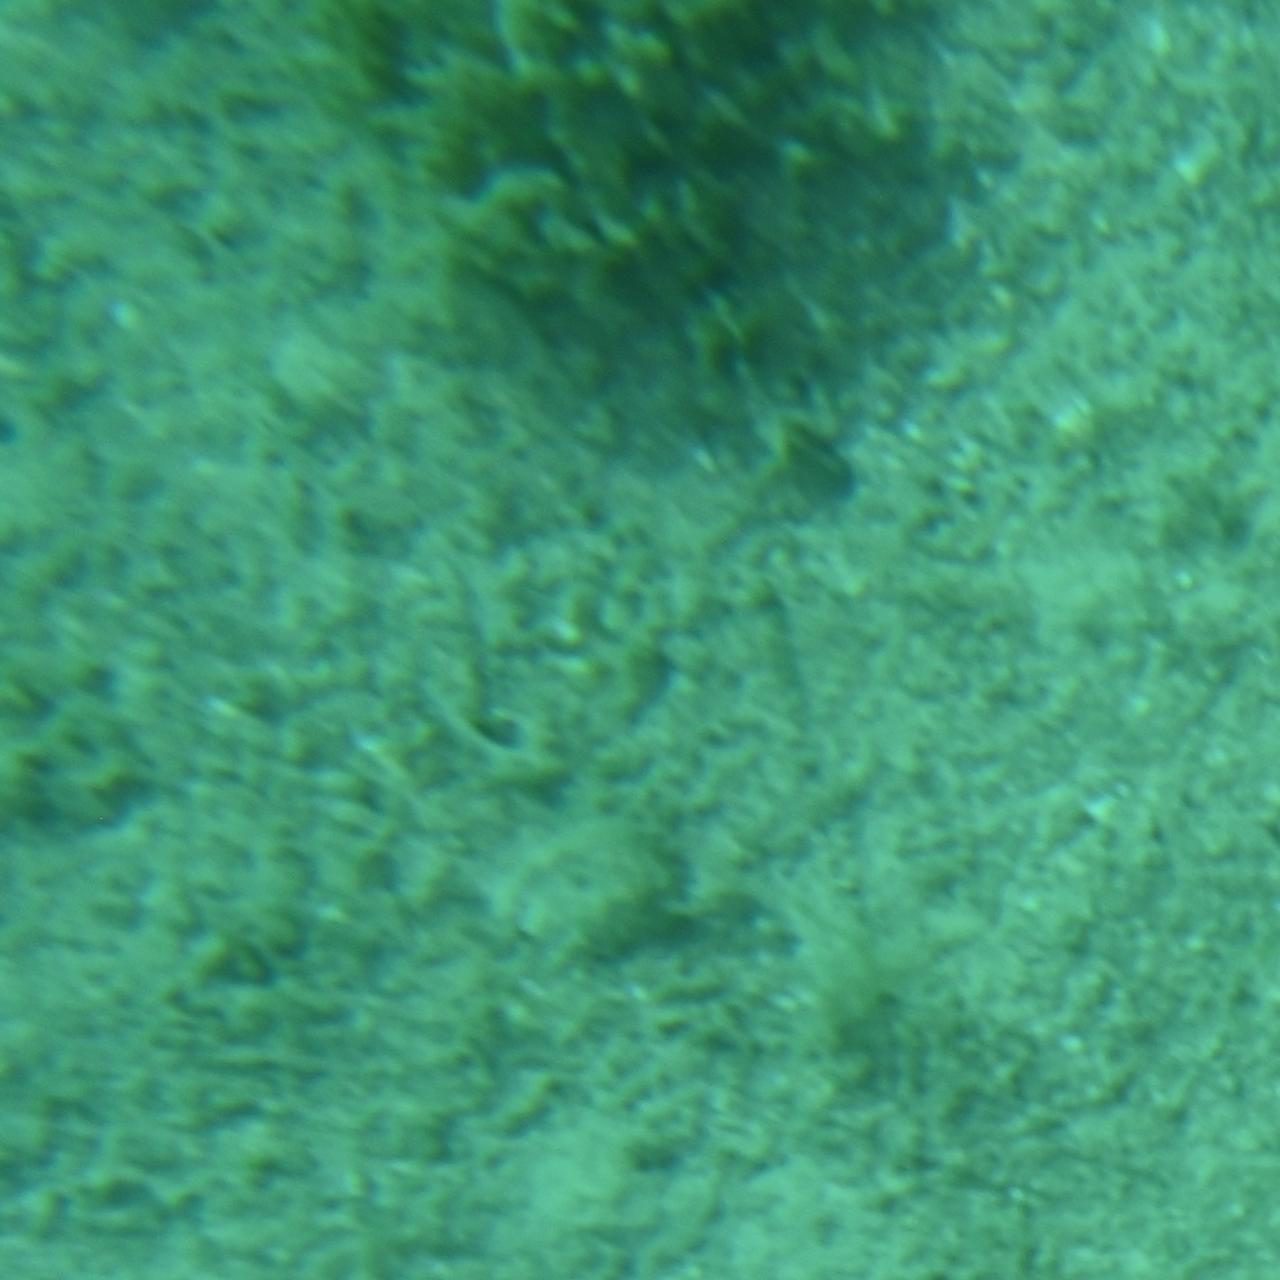Phaeophyceae -cfr Cystoseira-: (310, 0, 970, 464)
